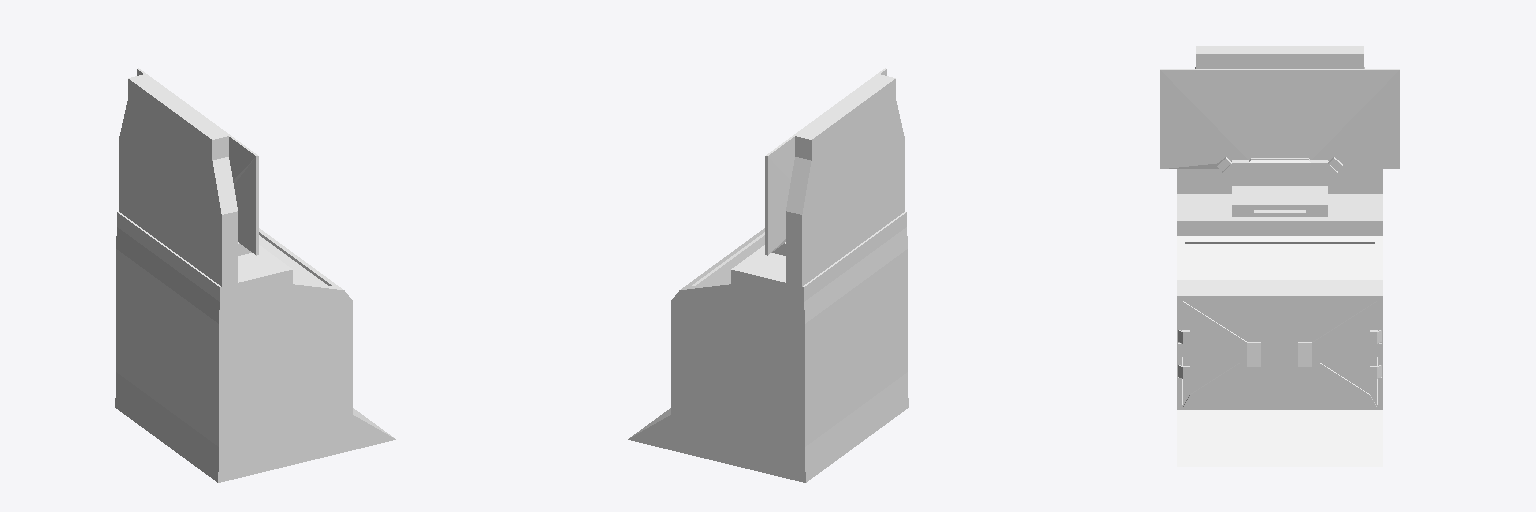
The model's file is Terminal.obj.
3 views of the same model, side by side, from view 1: azimuth 30°, elevation 25°; view 2: azimuth 150°, elevation 25°; view 3: azimuth 270°, elevation 25° (orthographic).
Parts seen in each view (by area): view 1: Cube1; view 2: Cube1; view 3: Cube1, Cube2_copy3, Cube2.
Part boxes in pixels (x1,y1,x2,y2): Cube1: (115, 68, 395, 482); Cube1: (628, 68, 908, 482); Cube1: (1160, 46, 1399, 466); Cube2_copy3: (1292, 301, 1381, 406); Cube2: (1178, 301, 1267, 406).
Size of the model in its own units: 2 by 3.6 by 2.32.